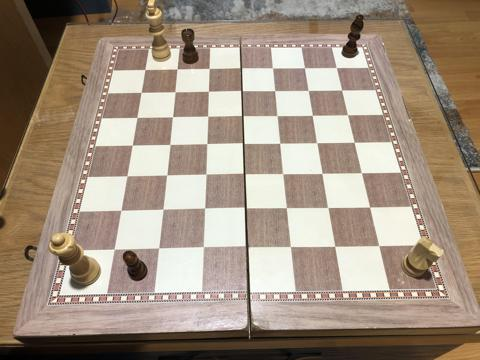xcorner: (332, 62, 344, 74), (300, 62, 312, 74), (236, 63, 248, 75), (171, 64, 183, 76), (139, 64, 151, 76), (337, 84, 349, 96), (304, 85, 316, 97), (270, 85, 282, 97), (203, 86, 215, 98), (135, 87, 147, 99), (343, 109, 355, 121), (308, 110, 320, 122), (273, 110, 285, 122), (202, 111, 214, 123), (131, 112, 143, 124), (350, 137, 362, 149), (313, 137, 325, 149), (276, 138, 288, 150), (201, 139, 213, 151), (126, 140, 138, 152), (357, 167, 369, 179), (318, 168, 330, 180), (240, 169, 252, 181), (200, 170, 212, 182), (121, 171, 133, 183), (365, 201, 377, 213), (324, 202, 336, 214), (199, 204, 211, 216), (157, 205, 169, 217), (115, 206, 127, 218), (242, 242, 254, 254), (198, 243, 210, 255), (109, 245, 121, 257), (268, 63, 280, 74), (204, 63, 215, 75), (237, 86, 248, 98), (169, 87, 181, 98), (238, 111, 249, 123), (167, 112, 178, 124), (239, 138, 250, 150), (164, 140, 176, 151), (279, 169, 291, 180), (161, 171, 173, 182), (283, 203, 294, 215), (241, 204, 253, 215), (375, 240, 386, 252), (331, 241, 343, 252), (287, 241, 298, 253), (154, 244, 165, 256)
